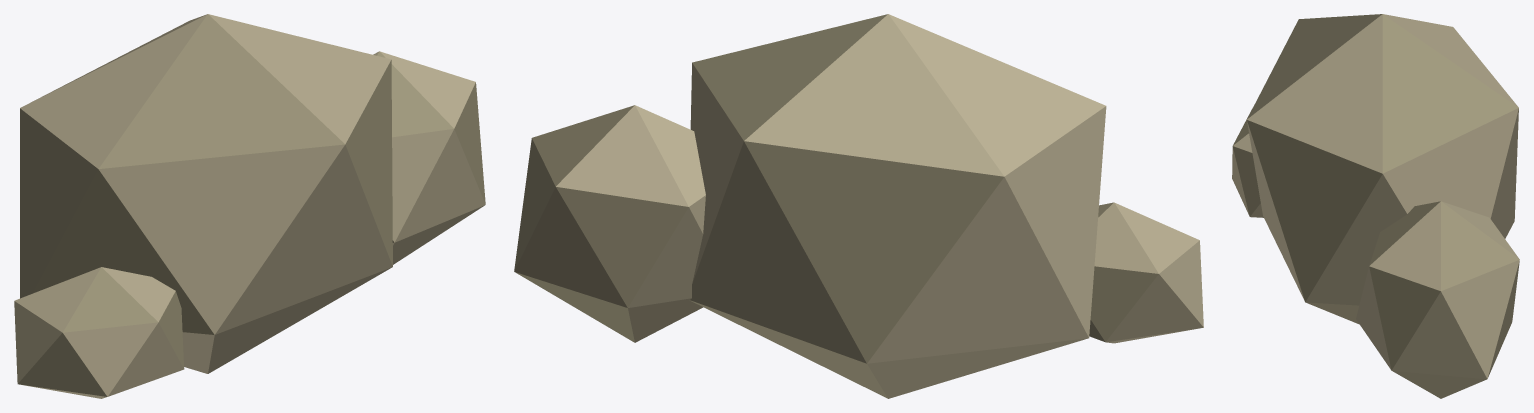
The model's file is meadow_chalk.glb.
3 renders of one model, left to right at view 1: azimuth 30°, elevation 25°; view 2: azimuth 150°, elevation 25°; view 3: azimuth 270°, elevation 25°, orthographic. The views are drawn at different scales.
Parts seen in each view (by area): view 1: meadow_chalk_body; view 2: meadow_chalk_body; view 3: meadow_chalk_body.
Boxes of the visible parts, x1,y1,x2,y2 form: meadow_chalk_body: (14, 14, 485, 398); meadow_chalk_body: (514, 14, 1203, 398); meadow_chalk_body: (1232, 14, 1519, 398).
Size of the model in its own units: 4.79 by 3.03 by 2.47.
